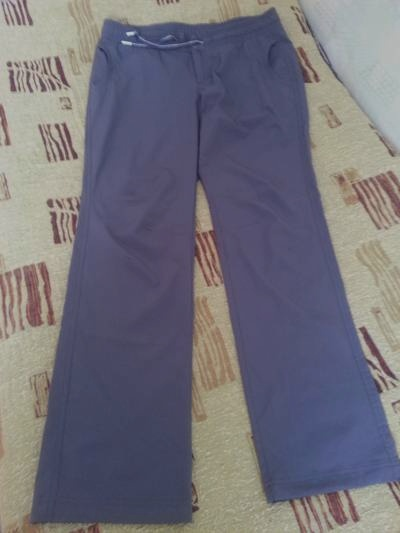Pants: (26, 11, 389, 523)
